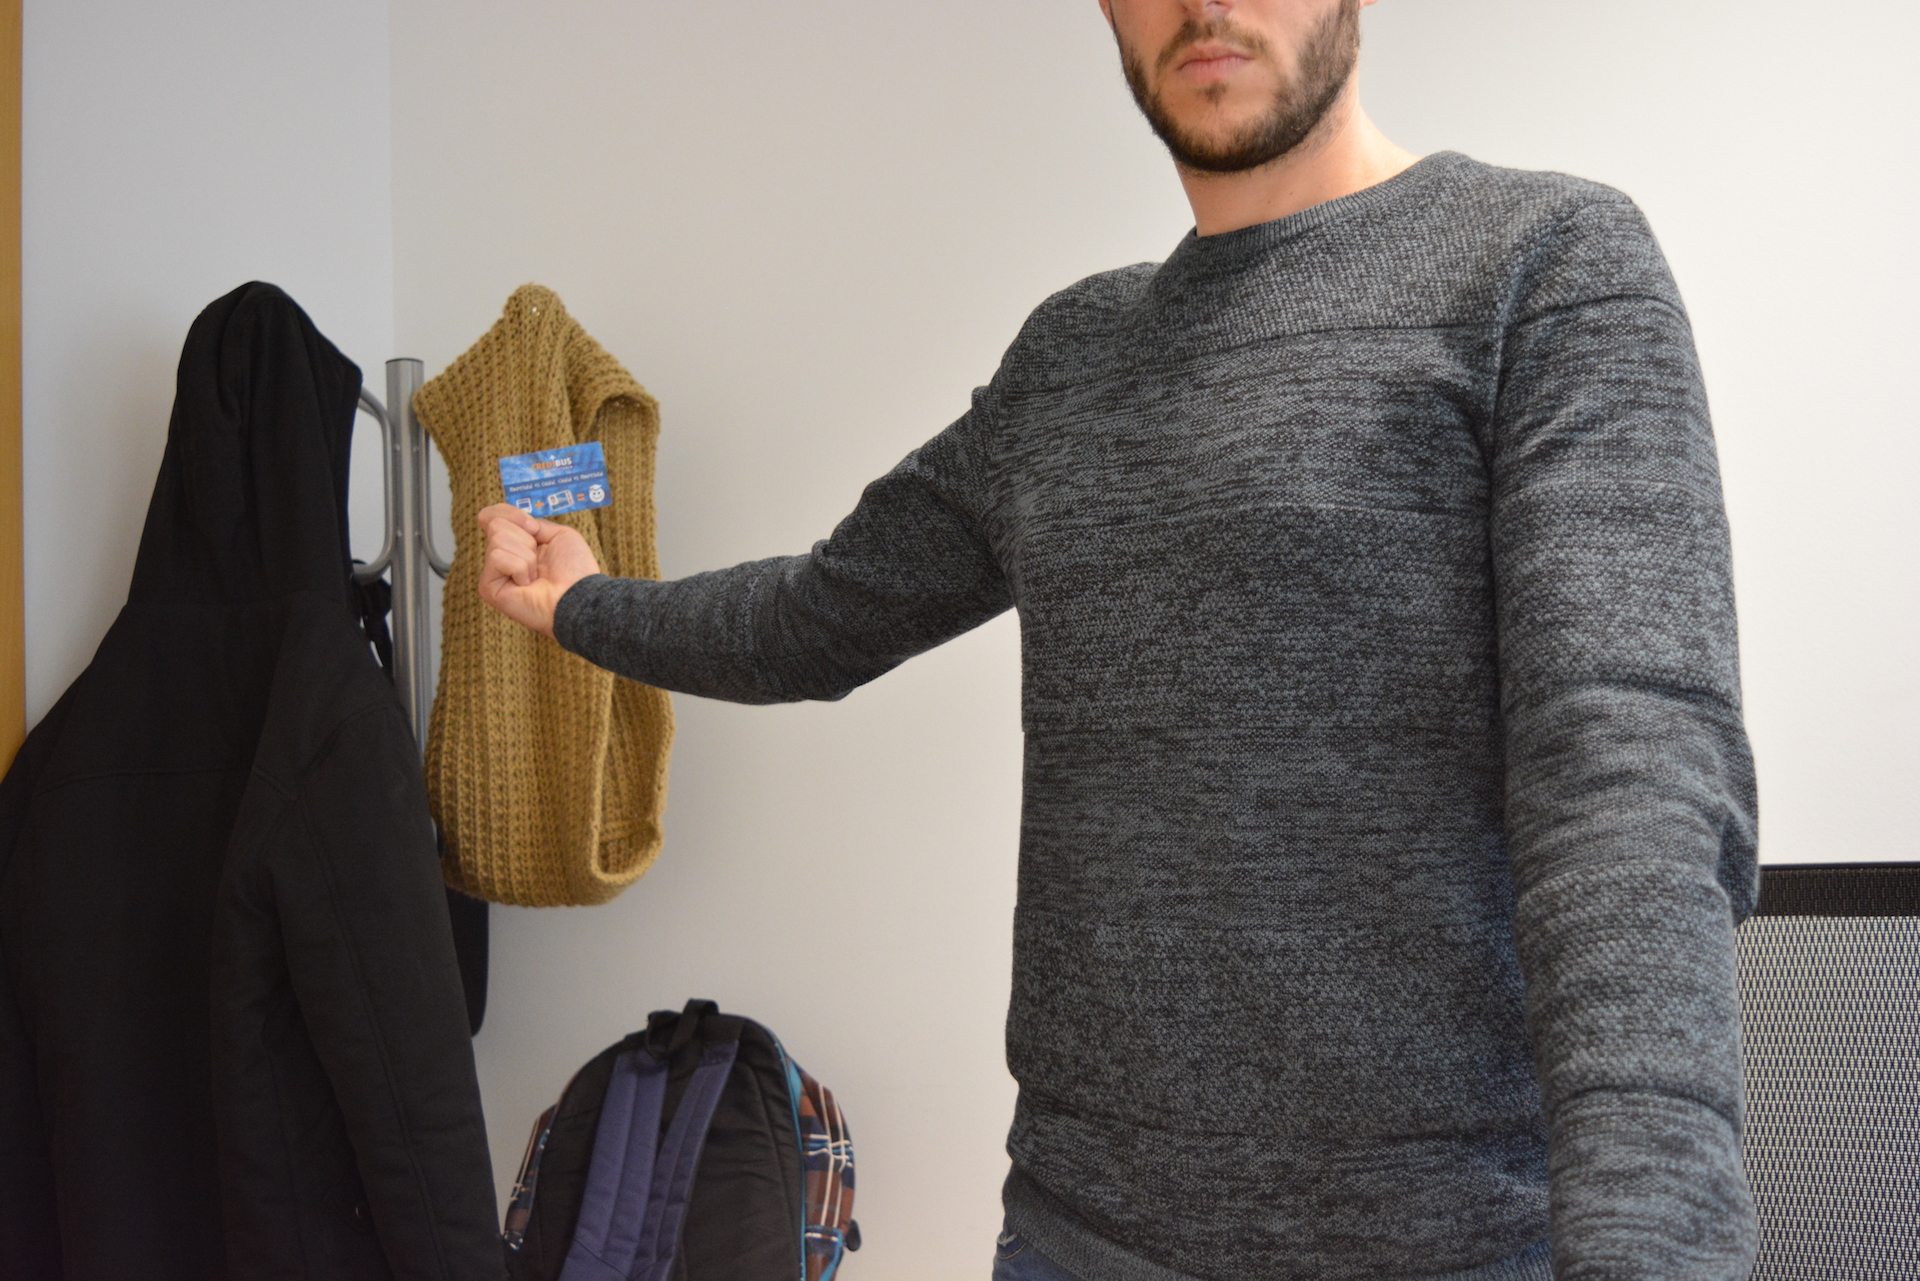tarjeta: (498, 440, 613, 520)
